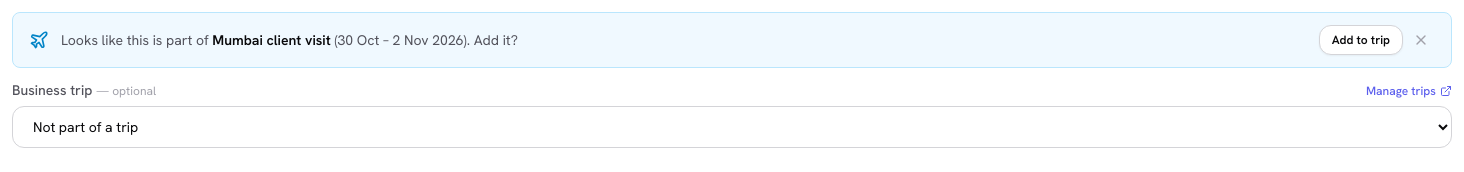
Test: TripFields › suggests the trip the expense date falls in, and adds it on click
This screenshot has width=1464, height=172.
Check: the message shows "Looks like this is part of Mumbai client visit", box [12, 12, 1452, 68]
What coordinates should you click on to do the following:
click the button "Add to trip"
I would click on:
 (1361, 40)
Its box is [1319, 25, 1403, 55].
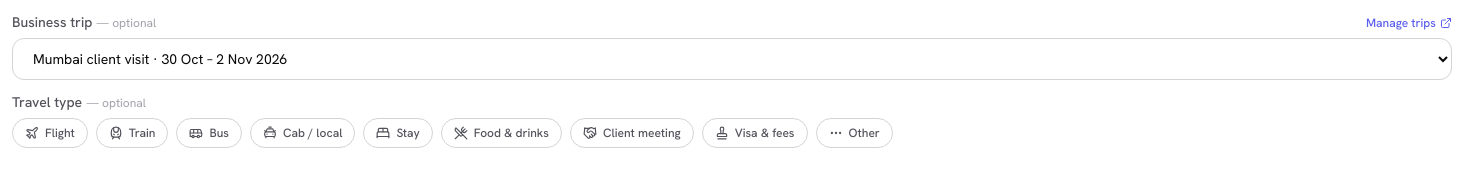
Check: the dropdown labelled "Business trip— optional" shows "Mumbai client visit · 30 Oct – 2 Nov 2026", box [12, 38, 1452, 80]
Check: the message is gone
